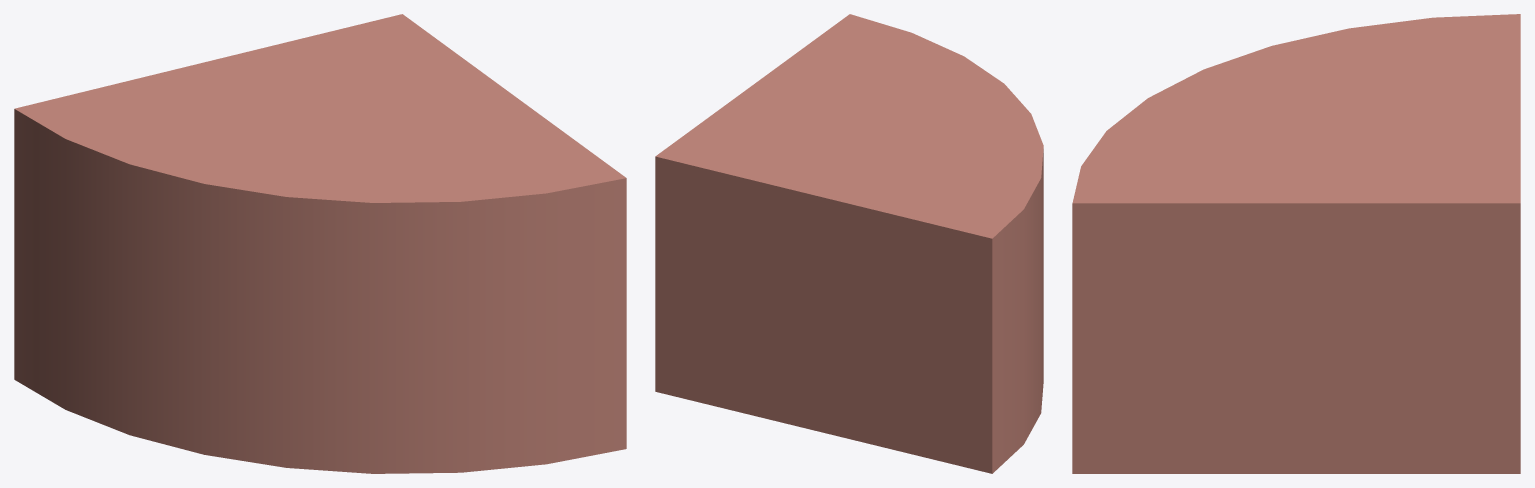
Rendered from QuarterCylinder15x5.fbx.
3 views of the same model, side by side, from view 1: azimuth 30°, elevation 25°; view 2: azimuth 150°, elevation 25°; view 3: azimuth 270°, elevation 25° (orthographic). The views are drawn at different scales.
Parts seen in each view (by area): view 1: QuarterCylinder15x5.002; view 2: QuarterCylinder15x5.002; view 3: QuarterCylinder15x5.002.
Boxes of the visible parts, box(x1,y1,x2,y2) form: QuarterCylinder15x5.002: box(14, 14, 626, 473); QuarterCylinder15x5.002: box(655, 14, 1043, 473); QuarterCylinder15x5.002: box(1072, 14, 1520, 473).
Bounding box in the file's own units: 750 × 500 × 750.
